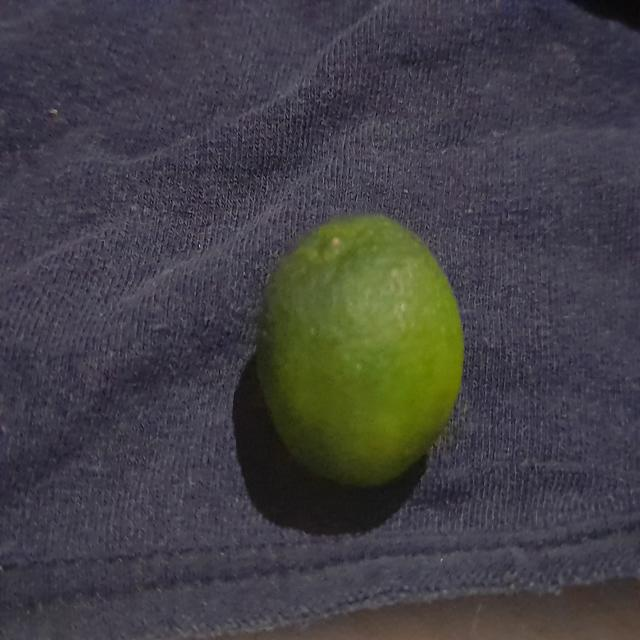heathy: (257, 205, 470, 488)
